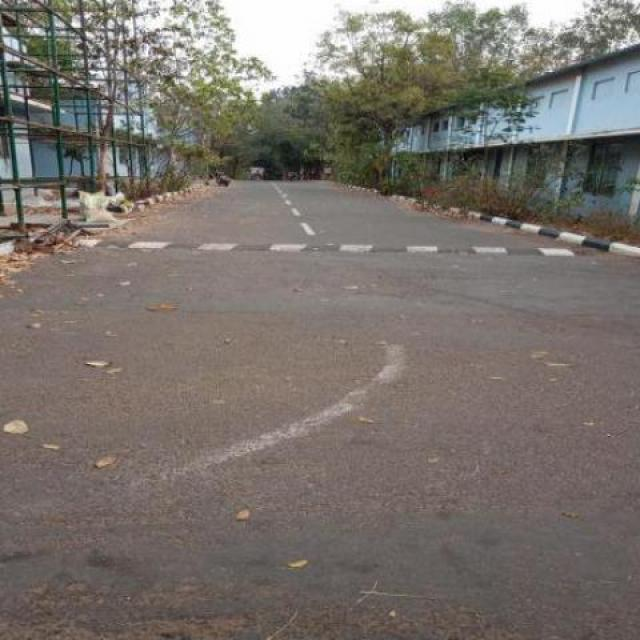Speed Bump: (65, 237, 612, 260)
